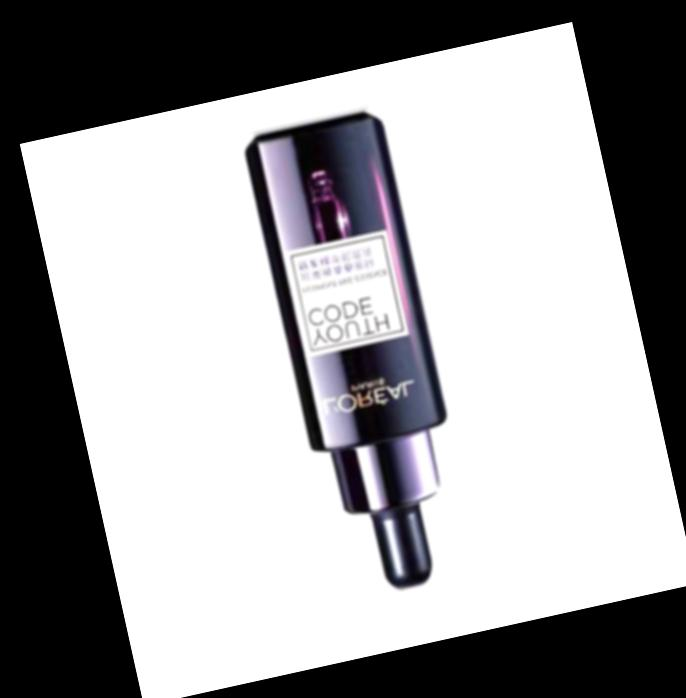cosmetic: (244, 109, 479, 601)
